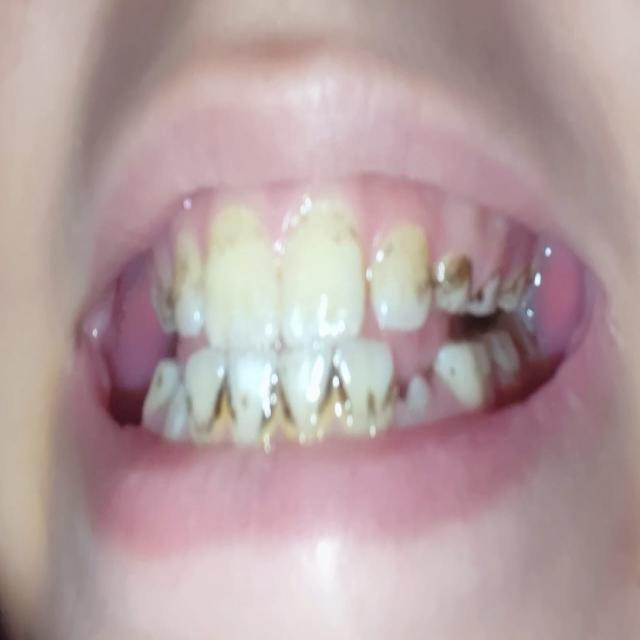tooth: (196, 224, 282, 355), (273, 220, 363, 340), (373, 224, 430, 328), (338, 341, 400, 435), (279, 334, 325, 444), (182, 352, 230, 436), (232, 352, 272, 448)
